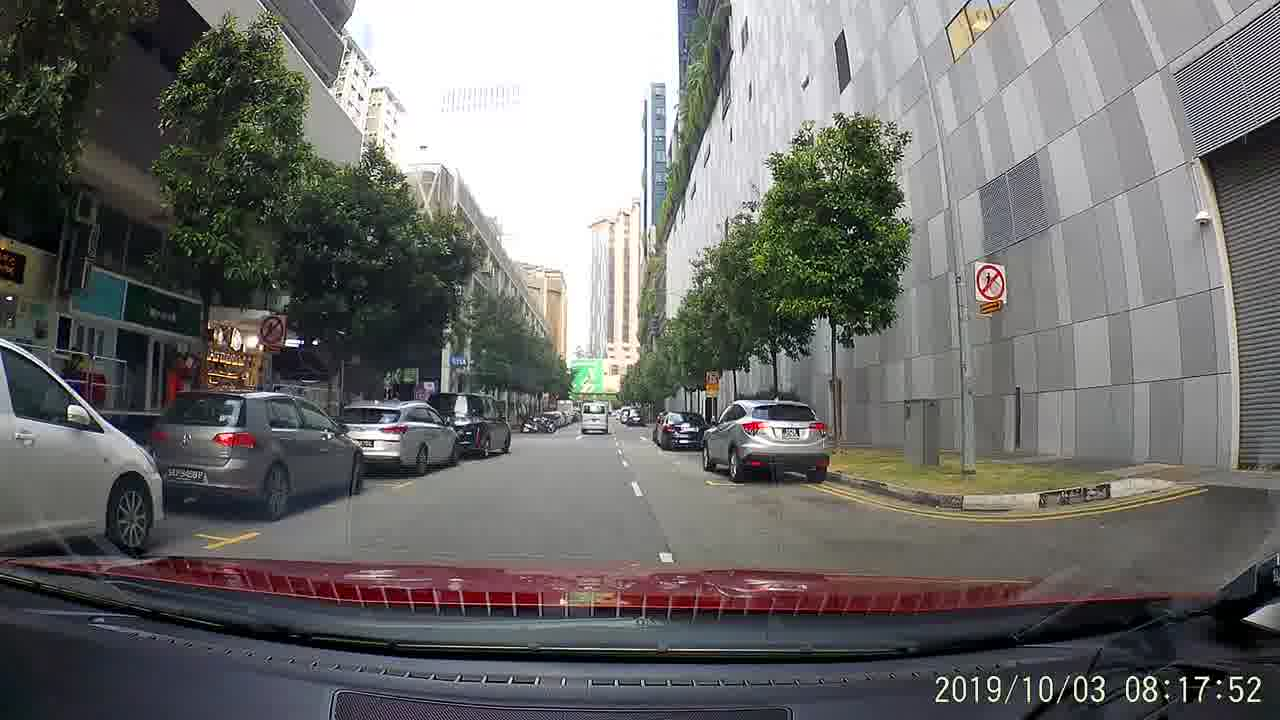car: (0, 332, 172, 558), (146, 382, 367, 523), (700, 396, 829, 482), (329, 394, 461, 471), (420, 390, 513, 460), (651, 409, 711, 453)
